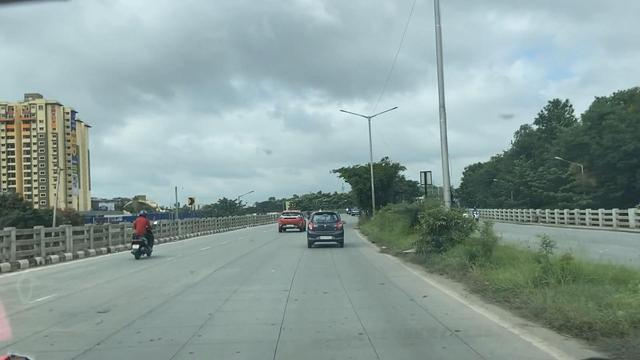LMV: (309, 213, 345, 249), (133, 213, 158, 251), (281, 209, 304, 229)
